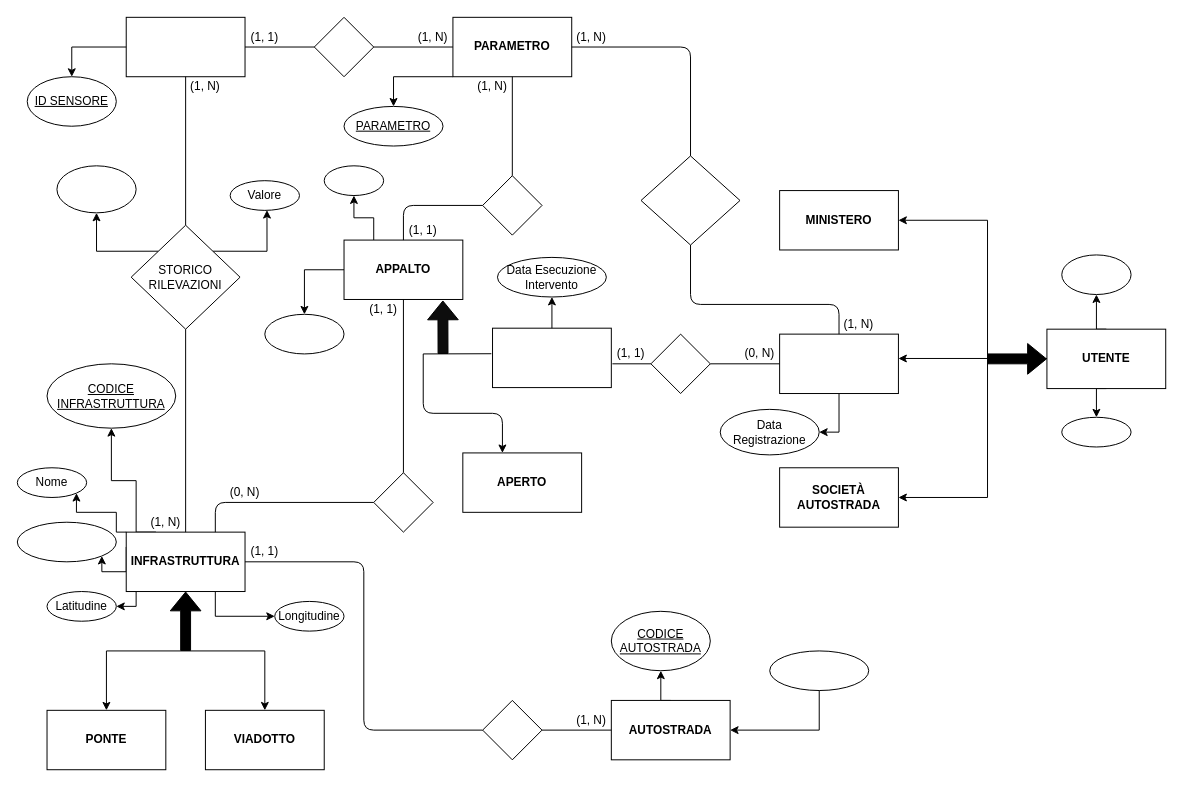
This 1183x787 diagram has some shape labels left out. Here are the shapes that lost their labels. From the top down, the centre of each, then its label:
At [185,46]: "SENSORE".
At [96,189]: "Data Rilevazione".
At [353,180]: "ID".
At [690,200]: "DISPONIBILITÀ".
At [1096,274]: "MAIL".
At [304,333]: "Data Apertura".
At [551,357]: "CONCLUSO".
At [838,363]: "SOCIETÀ MANUTENZIONE".
At [1096,431]: "Password".
At [66,541]: "Indice di Bontà".
At [819,670]: "Lunghezza".
